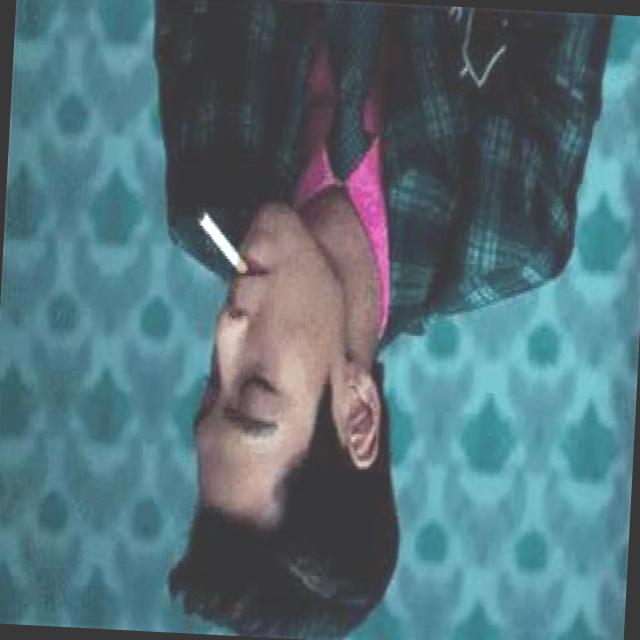smoke: (184, 190, 283, 302)
